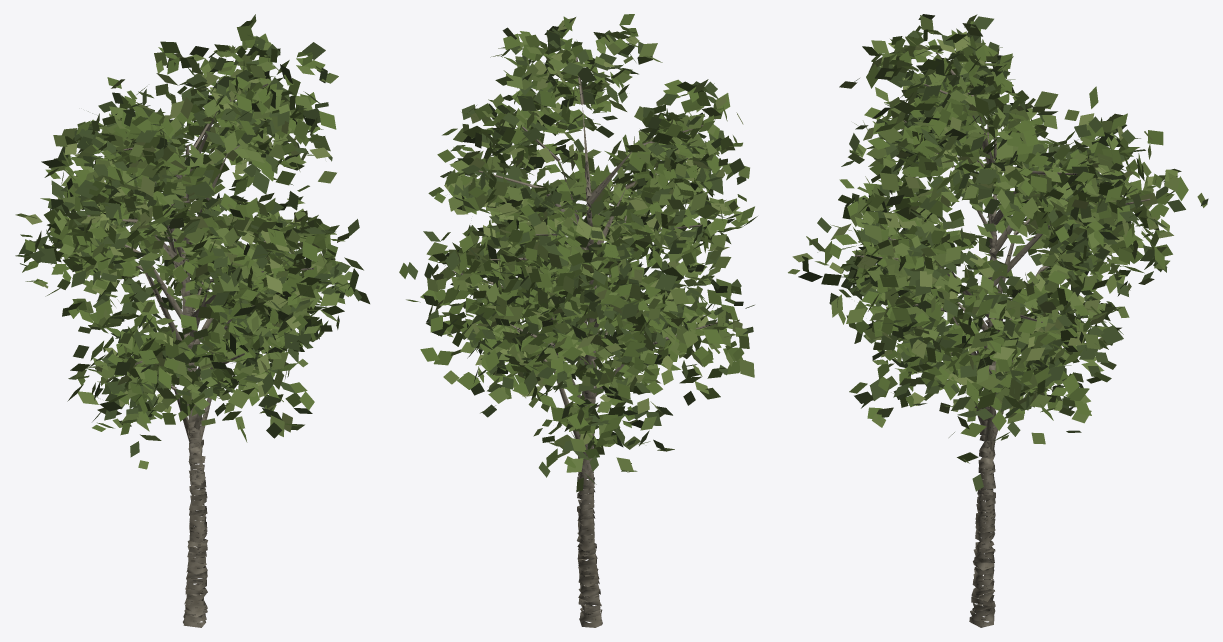
The model's file is verge_birch_mobile.glb.
3 renders of one model, left to right at view 1: azimuth 30°, elevation 25°; view 2: azimuth 150°, elevation 25°; view 3: azimuth 270°, elevation 25°, orthographic. The views are drawn at different scales.
Parts seen in each view (by area): view 1: VergeBirch; view 2: VergeBirch; view 3: VergeBirch.
Part boxes in pixels (x1,y1,x2,y2): VergeBirch: [15, 14, 369, 627]; VergeBirch: [399, 14, 757, 627]; VergeBirch: [788, 14, 1208, 627].
Bounding box in the file's own units: 4.9 × 8.67 × 5.43.
5 materials, 1 textured.
